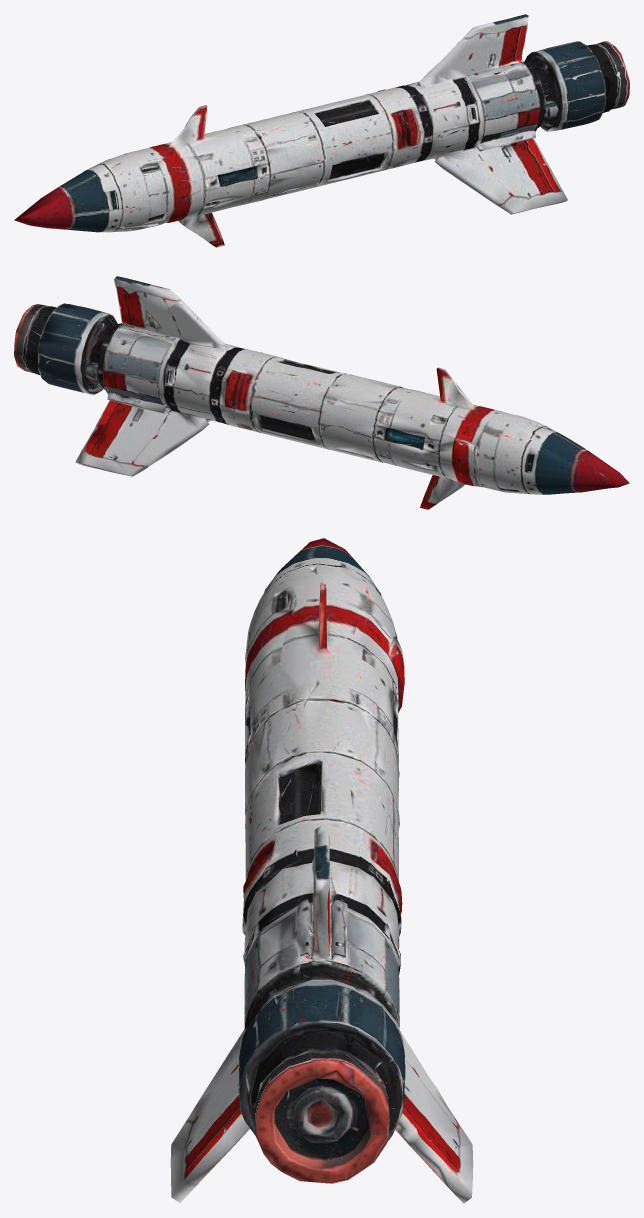
Rendered from missile.glb.
3 views of the same model, one above another, from view 1: azimuth 30°, elevation 25°; view 2: azimuth 150°, elevation 25°; view 3: azimuth 270°, elevation 25° (orthographic). The views are drawn at different scales.
Size of the model in its own units: 1.9 by 0.4904 by 0.4159.
Materials: 1 (1 with a texture image).
